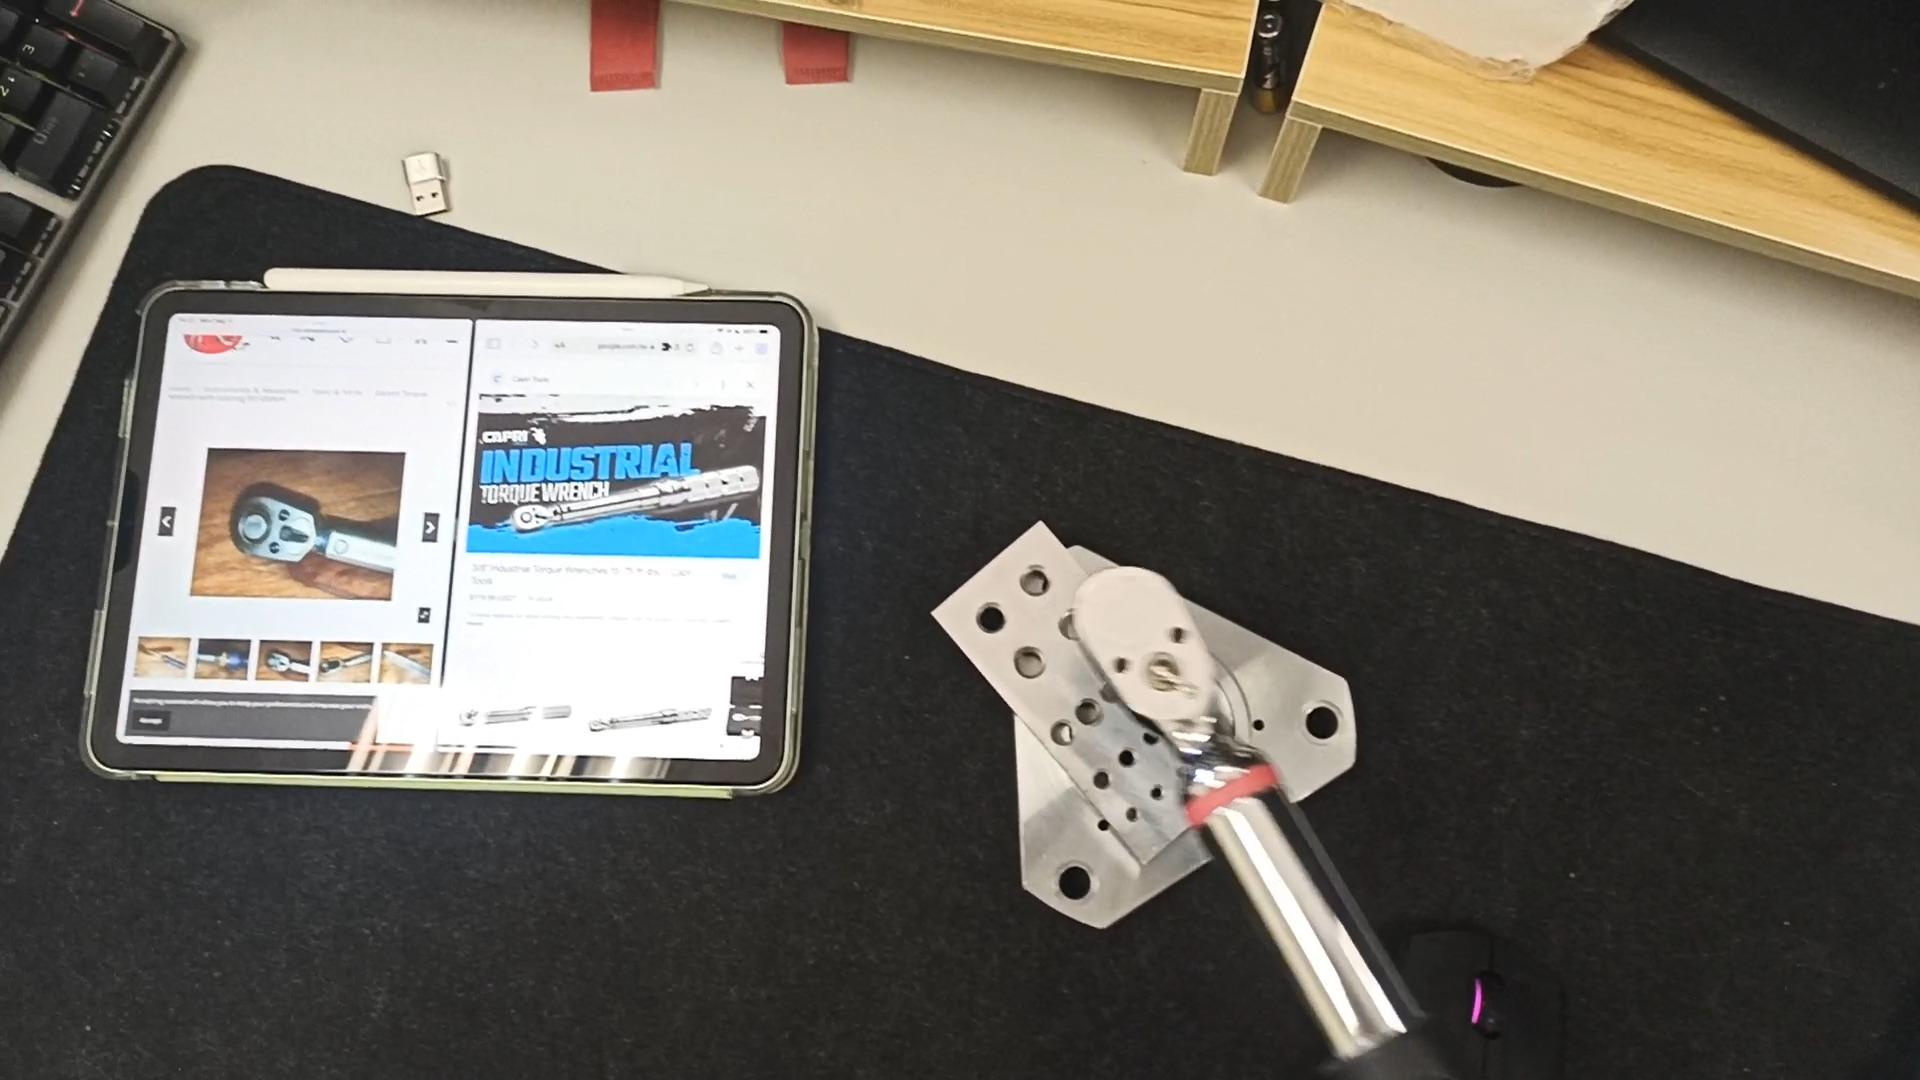Tool: (1071, 566, 1240, 778), (231, 495, 316, 566), (513, 500, 553, 531)
hole: (1283, 702, 1352, 753), (1039, 860, 1108, 906), (994, 645, 1051, 684), (1005, 566, 1058, 604), (955, 601, 1006, 640), (1042, 608, 1093, 644), (1067, 694, 1105, 731), (1047, 716, 1079, 752), (1087, 767, 1122, 790), (1108, 749, 1142, 770), (1139, 785, 1172, 804), (1138, 724, 1162, 750), (1124, 802, 1145, 829)
